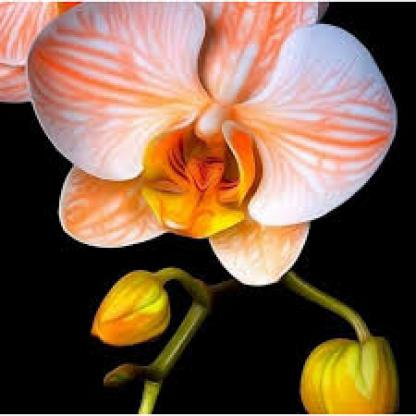ANGGREK: (16, 7, 400, 301)
